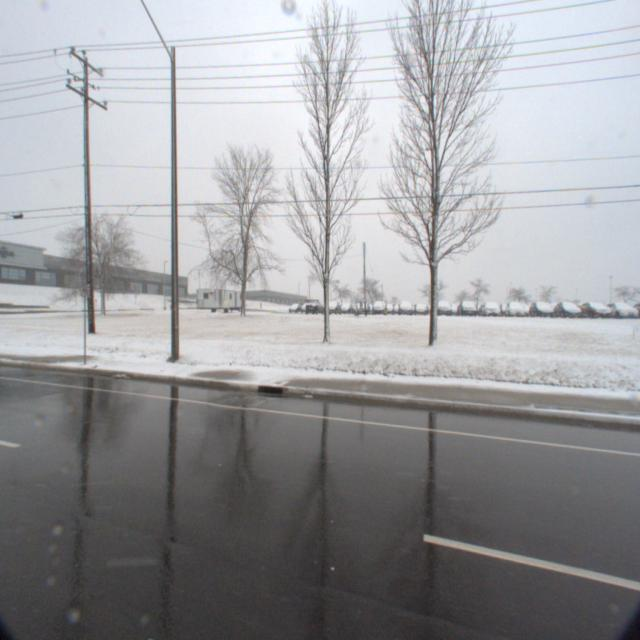Car: (571, 296, 609, 318), (548, 296, 578, 316), (498, 297, 524, 317), (453, 296, 475, 315)
